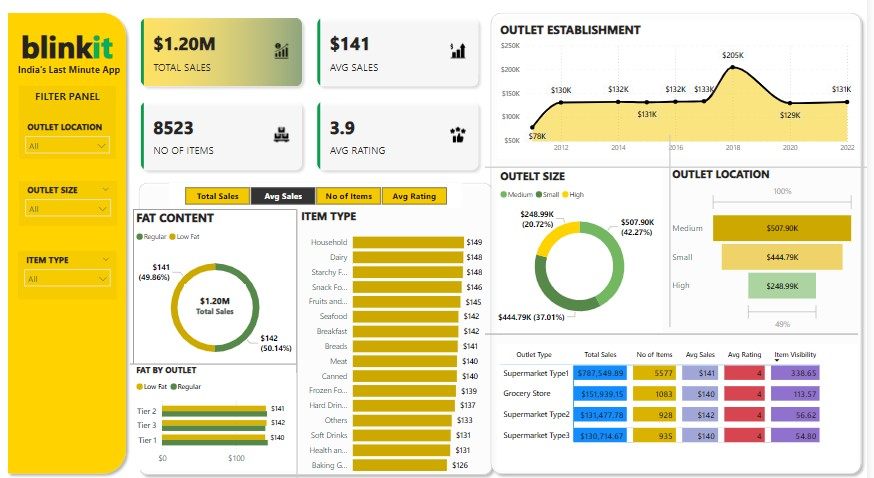

The dashboard page shown, as its layout file describes it:
{"tool":"powerbi","page":{"name":"Page 1","canvas":[1400,800],"ordinal":0},"visuals":[{"type":"shape","box":[27.6,31.2,205.8,750],"z":0},{"type":"textbox","box":[40.4,55.1,180.1,123.1],"z":1000},{"type":"textbox","box":[51.2,65.6,179.2,91.2],"z":2000},{"type":"textbox","box":[36.2,116.5,193.7,39.4],"z":3000},{"type":"cardVisual","fields":{"Data":["BlinkIT Grocery Data.Total Sales","BlinkIT Grocery Data.Avg Sales","BlinkIT Grocery Data.No of Items","BlinkIT Grocery Data.Avg Rating"]},"box":[230.2,31.7,571.4,276.2],"z":4000},{"type":"shape","box":[235.2,300.8,579.2,481.6],"z":5000},{"type":"donutChart","title":"FAT CONTENT","fields":{"Y":["BlinkIT Grocery Data.Total Sales"],"Category":["BlinkIT Grocery Data.Item Fat Content"]},"box":[235.2,352,260.8,260.8],"z":6000},{"type":"slicer","fields":{"Values":["Metrics.Metrics"]},"box":[291.3,311.8,464.6,39.4],"z":7000},{"type":"cardVisual","fields":{"Data":["BlinkIT Grocery Data.Total Sales"]},"box":[315.9,471.4,98.4,65.1],"z":8000},{"type":"clusteredBarChart","title":"FAT BY OUTLET","fields":{"Y":["BlinkIT Grocery Data.Total Sales"],"Category":["BlinkIT Grocery Data.Outlet Location Type"],"Series":["BlinkIT Grocery Data.Item Fat Content"]},"box":[235.2,598.4,259.2,168],"z":9000},{"type":"shape","box":[230.4,584,265.6,28.8],"z":10000},{"type":"shape","box":[488,352,16,430.4],"z":11000},{"type":"barChart","title":"ITEM TYPE","fields":{"Y":["BlinkIT Grocery Data.Total Sales"],"Category":["BlinkIT Grocery Data.Item Type"]},"box":[496.6,350,297.2,432.1],"z":12000},{"type":"shape","box":[793.6,32,606.4,750.4],"z":13000},{"type":"lineChart","title":"OUTLET ESTABLISHMENT","fields":{"Y":["BlinkIT Grocery Data.Total Sales"],"Category":["BlinkIT Grocery Data.Outlet Establishment Year"]},"box":[812.8,54.4,572.8,219.2],"z":14000},{"type":"shape","box":[793.9,271.8,606.1,29.3],"z":15000},{"type":"donutChart","title":"OUTELT SIZE","fields":{"Y":["BlinkIT Grocery Data.Total Sales"],"Category":["BlinkIT Grocery Data.Outlet Size"]},"box":[813.4,287.4,262,262],"z":16000},{"type":"shape","box":[1079.3,234.6,15.6,305],"z":17000},{"type":"funnel","title":"OUTLET LOCATION","fields":{"Category":["BlinkIT Grocery Data.Outlet Size"],"Y":["BlinkIT Grocery Data.Total Sales"]},"box":[1086.4,284.8,299.2,265.6],"z":18000},{"type":"shape","box":[793.6,536,592,28.8],"z":19000},{"type":"pivotTable","fields":{"Rows":["BlinkIT Grocery Data.Outlet Type"],"Values":["BlinkIT Grocery Data.Total Sales","BlinkIT Grocery Data.No of Items","BlinkIT Grocery Data.Avg Sales","BlinkIT Grocery Data.Avg Rating","Sum(BlinkIT Grocery Data.Item Visibility)"]},"box":[812.8,566.4,572.8,200],"z":20000},{"type":"slicer","title":"FAT CONTENT","fields":{"Values":["BlinkIT Grocery Data.Outlet Location Type"]},"box":[53.8,207.4,153.6,65.3],"z":21000},{"type":"slicer","title":"FAT CONTENT","fields":{"Values":["BlinkIT Grocery Data.Outlet Size"]},"box":[53.8,307.3,155.6,71.1],"z":22000},{"type":"slicer","title":"FAT CONTENT","fields":{"Values":["BlinkIT Grocery Data.Item Type"]},"box":[51.9,418.7,157.5,76.8],"z":23000},{"type":"textbox","box":[54.4,156.8,153.6,51.2],"z":24000}]}

Visuals, with their boxes on the page's 1400x800 design canvas (x1, y1, x2, y2). These are canvas units, not pixel positions in the 874x478 screenshot, which may show the page scaled, cropped or inside an application window:
shape: [x1=28, y1=31, x2=233, y2=781]
textbox: [x1=40, y1=55, x2=220, y2=178]
textbox: [x1=51, y1=66, x2=230, y2=157]
textbox: [x1=36, y1=116, x2=230, y2=156]
cardVisual - BlinkIT Grocery Data.Total Sales x BlinkIT Grocery Data.Avg Sales: [x1=230, y1=32, x2=802, y2=308]
shape: [x1=235, y1=301, x2=814, y2=782]
"FAT CONTENT" donutChart: [x1=235, y1=352, x2=496, y2=613]
slicer - Metrics.Metrics: [x1=291, y1=312, x2=756, y2=351]
cardVisual - BlinkIT Grocery Data.Total Sales: [x1=316, y1=471, x2=414, y2=536]
"FAT BY OUTLET" clusteredBarChart: [x1=235, y1=598, x2=494, y2=766]
shape: [x1=230, y1=584, x2=496, y2=613]
shape: [x1=488, y1=352, x2=504, y2=782]
"ITEM TYPE" barChart: [x1=497, y1=350, x2=794, y2=782]
shape: [x1=794, y1=32, x2=1400, y2=782]
"OUTLET ESTABLISHMENT" lineChart: [x1=813, y1=54, x2=1386, y2=274]
shape: [x1=794, y1=272, x2=1400, y2=301]
"OUTELT SIZE" donutChart: [x1=813, y1=287, x2=1075, y2=549]
shape: [x1=1079, y1=235, x2=1095, y2=540]
"OUTLET LOCATION" funnel: [x1=1086, y1=285, x2=1386, y2=550]
shape: [x1=794, y1=536, x2=1386, y2=565]
pivotTable - BlinkIT Grocery Data.Outlet Type x BlinkIT Grocery Data.Total Sales: [x1=813, y1=566, x2=1386, y2=766]
"FAT CONTENT" slicer: [x1=54, y1=207, x2=207, y2=273]
"FAT CONTENT" slicer: [x1=54, y1=307, x2=209, y2=378]
"FAT CONTENT" slicer: [x1=52, y1=419, x2=209, y2=496]
textbox: [x1=54, y1=157, x2=208, y2=208]
